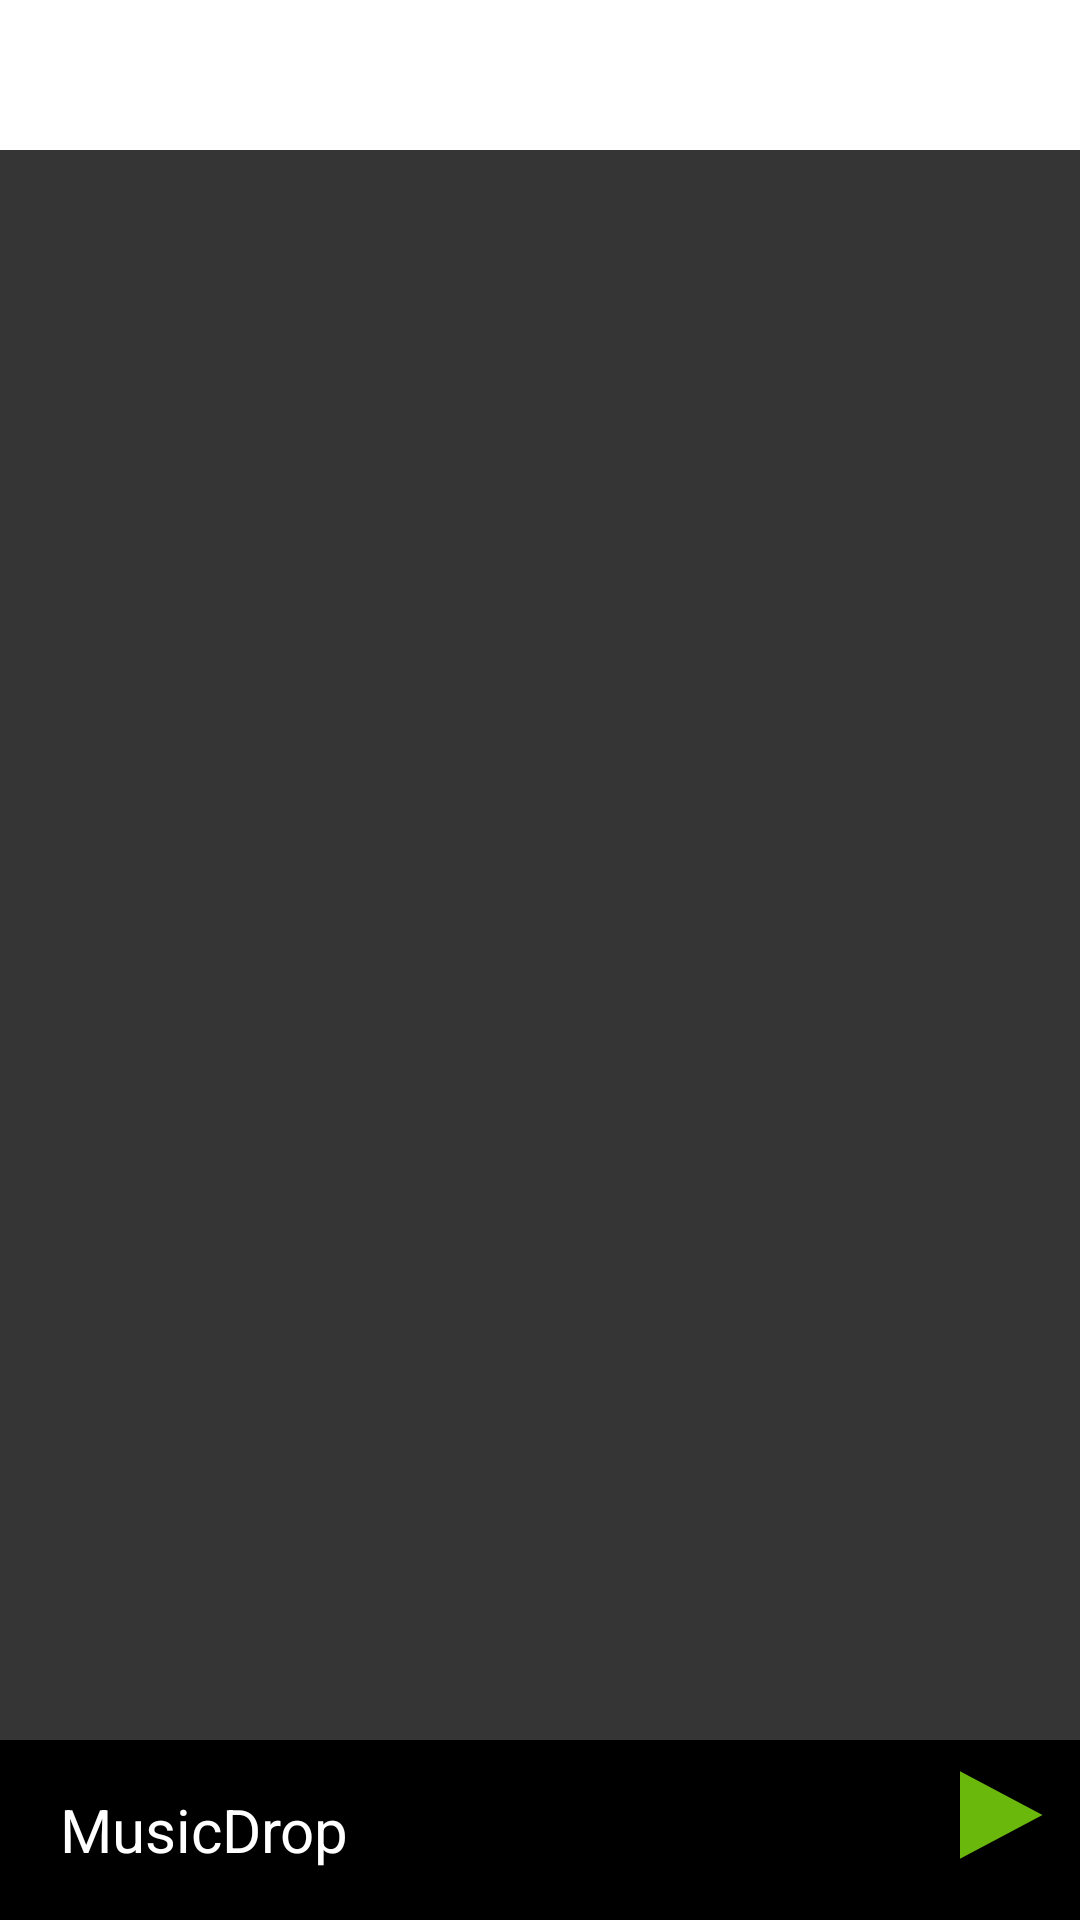

Named icons in this screenshot (1080px×1920px) and their bounding boxes, (x1, y1, x2, y2):
play: (960, 1771, 1042, 1859)
